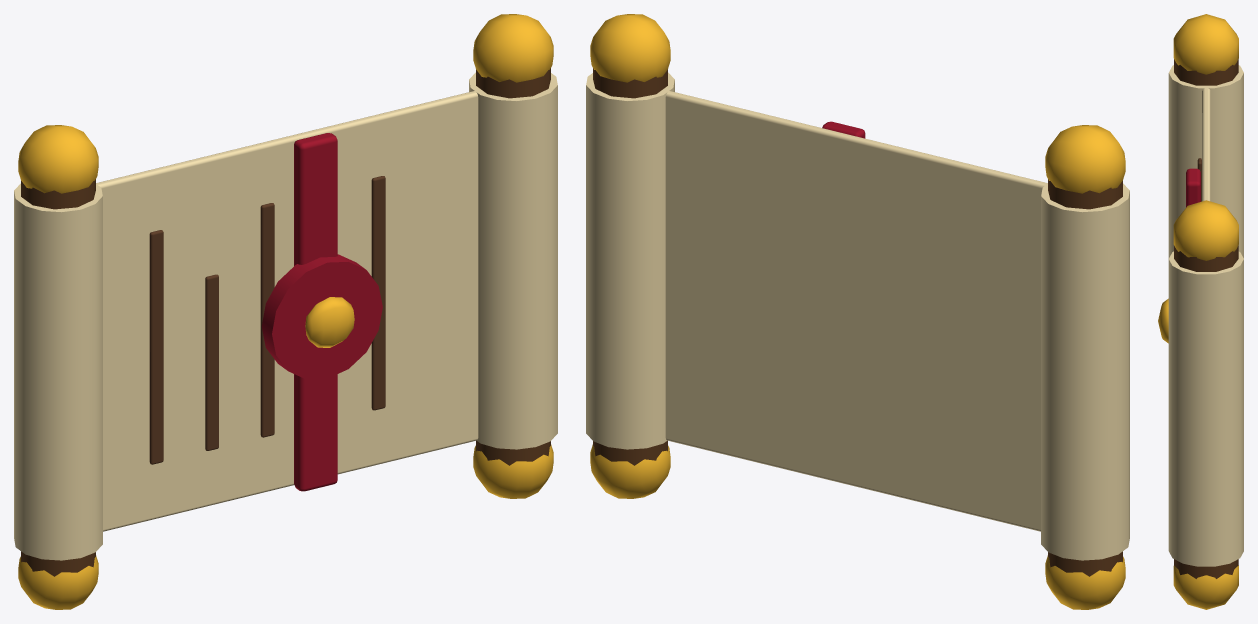
Rendered from loot_scroll.glb.
3 renders of one model, left to right at view 1: azimuth 30°, elevation 25°; view 2: azimuth 150°, elevation 25°; view 3: azimuth 270°, elevation 25°, orthographic. The views are drawn at different scales.
Visible parts, largest first — view 1: Sheet, Roll_02, Roll, Ribbon, Seal, RodCap_02, RodCap_04, Line0, Line4, Line2, RodCap_03, RodCap (+4 smaller); view 2: Sheet, Roll_02, Roll, RodCap_02, RodCap_04, RodCap_03, RodCap, Rod, Rod_02; view 3: Roll, Roll_02, RodCap_02, RodCap_04, RodCap, Rod, Sheet, Rod_02, Ribbon, SealStar.
Part boxes in pixels (x1,y1,x2,y2): Sheet: (96, 89, 481, 531); Roll_02: (14, 183, 102, 560); Roll: (469, 72, 557, 449); Ribbon: (294, 133, 337, 491); Seal: (261, 254, 382, 379); RodCap_02: (473, 14, 553, 82); RodCap_04: (18, 125, 98, 193); Line0: (149, 230, 163, 464); Line4: (371, 176, 385, 410); Line2: (260, 203, 274, 437); RodCap_03: (18, 555, 98, 609); RodCap: (473, 444, 553, 498); Sheet: (662, 89, 1047, 531); Roll_02: (1041, 183, 1129, 560); Roll: (586, 72, 674, 449); RodCap_02: (590, 14, 670, 82); RodCap_04: (1045, 125, 1125, 193); RodCap_03: (1045, 555, 1125, 609); RodCap: (590, 444, 670, 498); Rod: (593, 68, 667, 465); Rod_02: (1048, 179, 1122, 576); Roll: (1168, 251, 1243, 566); Roll_02: (1168, 65, 1243, 258); RodCap_02: (1173, 200, 1238, 260); RodCap_04: (1173, 14, 1238, 74); RodCap: (1173, 565, 1238, 609); Rod: (1174, 245, 1238, 578); Sheet: (1202, 86, 1210, 201); Rod_02: (1174, 59, 1238, 85); Ribbon: (1186, 168, 1200, 207); SealStar: (1158, 298, 1168, 343).
Bounding box in the file's own units: 0.4782 × 0.414 × 0.08.
